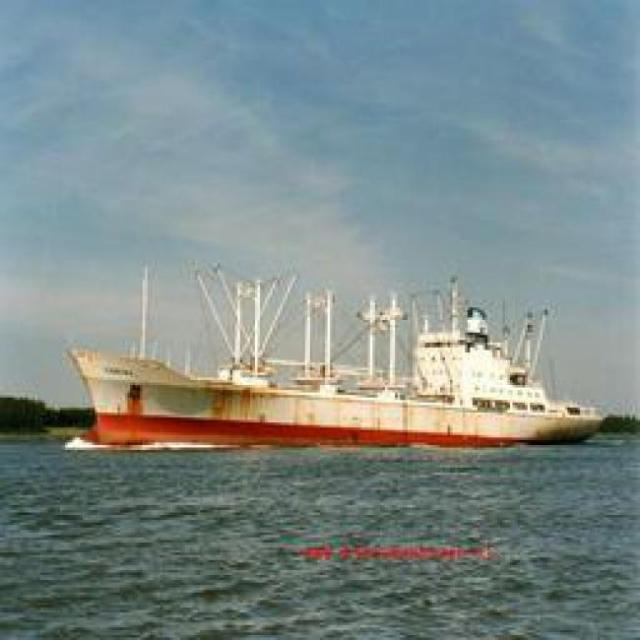boat: (51, 303, 607, 464)
